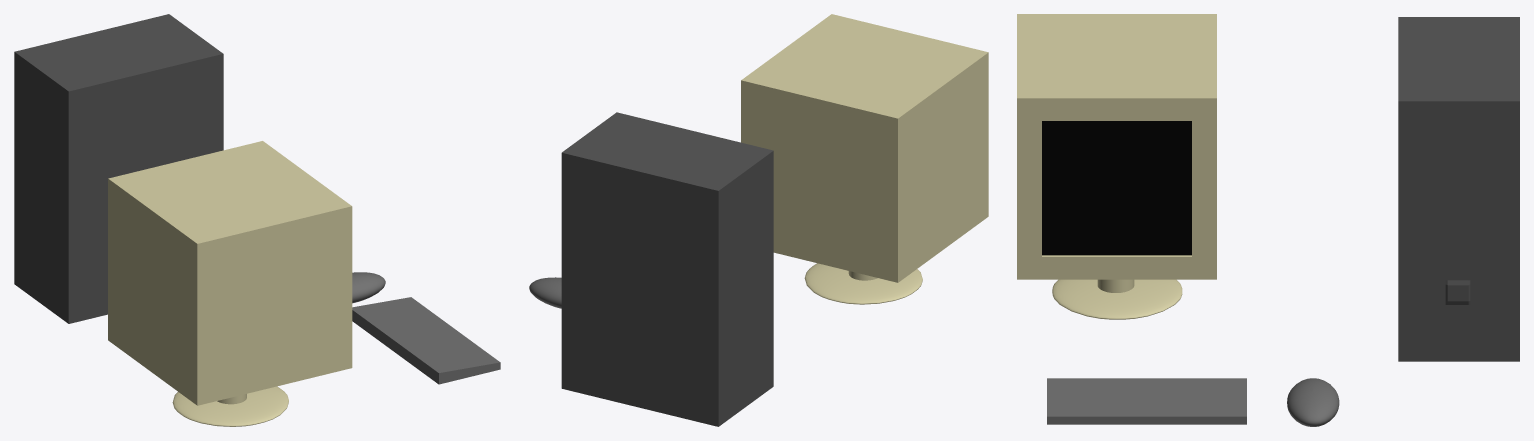
The model's file is Chris PC.fbx.
The picture shows the model from 3 angles, left to right: view 1: azimuth 30°, elevation 25°; view 2: azimuth 150°, elevation 25°; view 3: azimuth 270°, elevation 25°; orthographic projection. The views are drawn at different scales.
Parts seen in each view (by area): view 1: Cube.001, Cube, Cube.002, SurfSphere, SurfSphere.001; view 2: Cube, Cube.001, SurfSphere, SurfSphere.001; view 3: Cube, Cube.001, Plane, Cube.002, SurfSphere, SurfSphere.001, Surface.
Part boxes in pixels (left/top/right/bottom): Cube.001: left=108, top=141, right=352, bottom=405; Cube: left=14, top=14, right=223, bottom=323; Cube.002: left=352, top=297, right=500, bottom=384; SurfSphere: left=172, top=386, right=288, bottom=426; SurfSphere.001: left=352, top=272, right=385, bottom=303; Cube: left=561, top=112, right=773, bottom=426; Cube.001: left=741, top=14, right=988, bottom=282; SurfSphere: left=804, top=263, right=922, bottom=304; SurfSphere.001: left=529, top=277, right=561, bottom=308; Cube: left=1398, top=17, right=1519, bottom=361; Cube.001: left=1017, top=14, right=1216, bottom=279; Plane: left=1042, top=121, right=1191, bottom=255; Cube.002: left=1047, top=378, right=1246, bottom=424; SurfSphere: left=1052, top=279, right=1182, bottom=319; SurfSphere.001: left=1287, top=378, right=1339, bottom=426; Surface: left=1097, top=279, right=1134, bottom=292.
Bounding box in the file's own units: 412 × 296 × 503.
